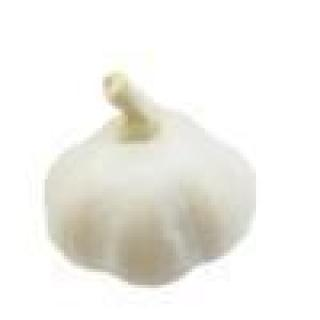Bawang Putih: (43, 62, 254, 289)
